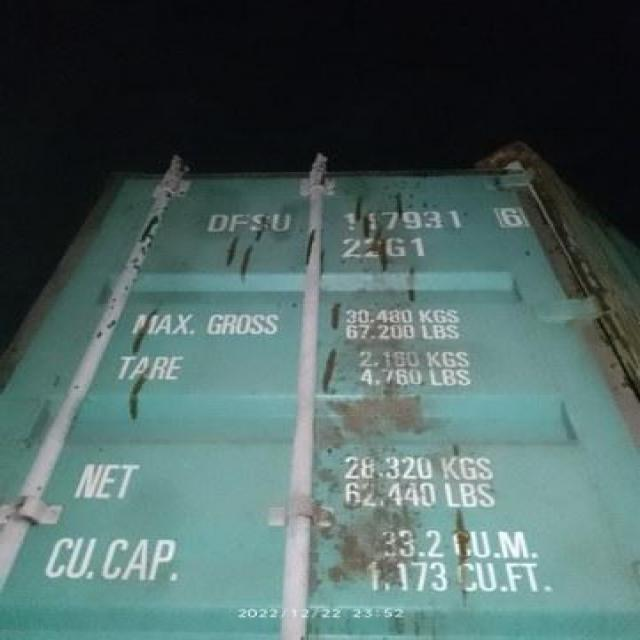ISO: (341, 236, 432, 262)
container_number: (205, 202, 534, 240)
